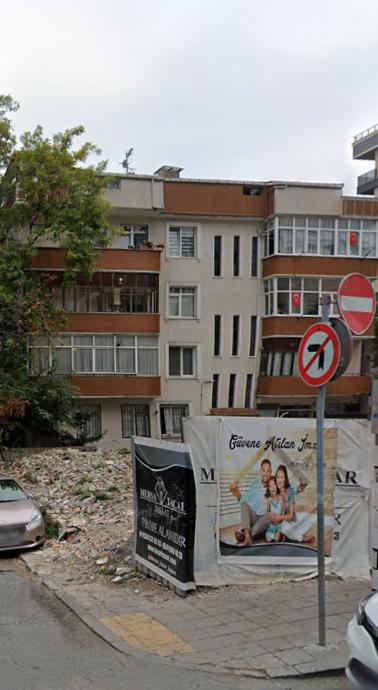leftturnsareforbidden: (299, 325, 340, 386)
